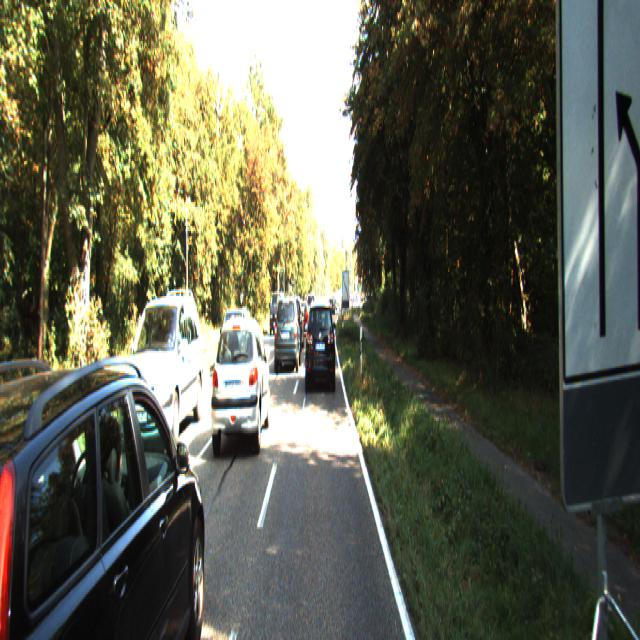Car: (0, 335, 210, 639), (118, 292, 205, 451), (210, 312, 271, 455), (305, 301, 336, 394), (216, 304, 250, 372), (274, 292, 300, 370)
